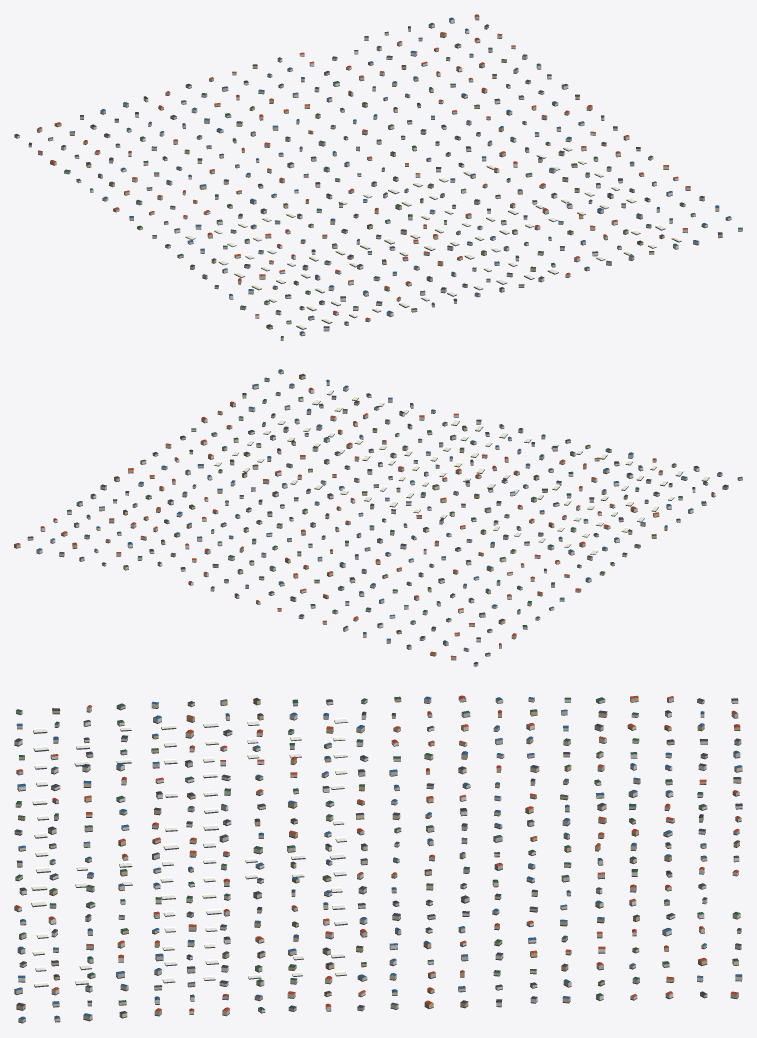
The model's file is buildings_T_W01_S01.glb.
3 views of the same model, one above another, from view 1: azimuth 30°, elevation 25°; view 2: azimuth 150°, elevation 25°; view 3: azimuth 270°, elevation 25° (orthographic). The views are drawn at different scales.
Visible parts, largest first — view 1: T_W01_S01_slope_seating_foundations, T_W01_S01_roofs_agri_greenhouse_arch, T_W01_S01_walls_wall_pastel_sand_gray, T_W01_S01_walls_wall_modern_warm_white, T_W01_S01_walls_wall_dalat_cream_stucco, T_W01_S01_walls_wall_french_ochre_villa, T_W01_S01_roofs_roof_slate_French_villa_hip, T_W01_S01_roofs_roof_highland_blue_gable, T_W01_S01_roofs_roof_terracotta_gable, T_W01_S01_roofs_roof_pine_green_hip; view 2: T_W01_S01_slope_seating_foundations, T_W01_S01_roofs_agri_greenhouse_arch, T_W01_S01_walls_wall_modern_warm_white, T_W01_S01_walls_wall_pastel_sand_gray, T_W01_S01_walls_wall_dalat_cream_stucco, T_W01_S01_walls_wall_french_ochre_villa, T_W01_S01_roofs_roof_slate_French_villa_hip, T_W01_S01_roofs_roof_highland_blue_gable, T_W01_S01_roofs_roof_terracotta_gable, T_W01_S01_roofs_roof_pine_green_hip; view 3: T_W01_S01_slope_seating_foundations, T_W01_S01_roofs_agri_greenhouse_arch, T_W01_S01_walls_wall_pastel_sand_gray, T_W01_S01_walls_wall_modern_warm_white, T_W01_S01_walls_wall_dalat_cream_stucco, T_W01_S01_walls_wall_french_ochre_villa, T_W01_S01_roofs_roof_slate_French_villa_hip, T_W01_S01_roofs_roof_highland_blue_gable, T_W01_S01_roofs_roof_terracotta_gable, T_W01_S01_roofs_roof_pine_green_hip.
Part boxes in pixels (x1=…): T_W01_S01_slope_seating_foundations: x1=14, y1=19, x2=742, y2=340; T_W01_S01_roofs_agri_greenhouse_arch: x1=185, y1=145, x2=681, y2=328; T_W01_S01_walls_wall_pastel_sand_gray: x1=28, y1=15, x2=699, y2=339; T_W01_S01_walls_wall_modern_warm_white: x1=14, y1=19, x2=687, y2=330; T_W01_S01_walls_wall_dalat_cream_stucco: x1=48, y1=24, x2=742, y2=335; T_W01_S01_walls_wall_french_ochre_villa: x1=50, y1=33, x2=722, y2=328; T_W01_S01_roofs_roof_slate_French_villa_hip: x1=14, y1=24, x2=722, y2=327; T_W01_S01_roofs_roof_highland_blue_gable: x1=48, y1=17, x2=742, y2=333; T_W01_S01_roofs_roof_terracotta_gable: x1=37, y1=14, x2=690, y2=319; T_W01_S01_roofs_roof_pine_green_hip: x1=64, y1=23, x2=695, y2=337; T_W01_S01_slope_seating_foundations: x1=14, y1=372, x2=742, y2=666; T_W01_S01_roofs_agri_greenhouse_arch: x1=214, y1=388, x2=709, y2=554; T_W01_S01_walls_wall_modern_warm_white: x1=36, y1=387, x2=715, y2=666; T_W01_S01_walls_wall_pastel_sand_gray: x1=14, y1=382, x2=742, y2=659; T_W01_S01_walls_wall_dalat_cream_stucco: x1=59, y1=370, x2=722, y2=651; T_W01_S01_walls_wall_french_ochre_villa: x1=72, y1=375, x2=728, y2=655; T_W01_S01_roofs_roof_slate_French_villa_hip: x1=27, y1=373, x2=728, y2=664; T_W01_S01_roofs_roof_highland_blue_gable: x1=36, y1=369, x2=722, y2=649; T_W01_S01_roofs_roof_terracotta_gable: x1=14, y1=387, x2=714, y2=657; T_W01_S01_roofs_roof_pine_green_hip: x1=59, y1=392, x2=742, y2=630; T_W01_S01_slope_seating_foundations: x1=14, y1=699, x2=742, y2=1023; T_W01_S01_roofs_agri_greenhouse_arch: x1=31, y1=717, x2=348, y2=986; T_W01_S01_walls_wall_pastel_sand_gray: x1=14, y1=697, x2=741, y2=1015; T_W01_S01_walls_wall_modern_warm_white: x1=14, y1=698, x2=742, y2=1014; T_W01_S01_walls_wall_dalat_cream_stucco: x1=15, y1=699, x2=742, y2=1022; T_W01_S01_walls_wall_french_ochre_villa: x1=16, y1=697, x2=740, y2=1009; T_W01_S01_roofs_roof_slate_French_villa_hip: x1=14, y1=698, x2=742, y2=1014; T_W01_S01_roofs_roof_highland_blue_gable: x1=14, y1=696, x2=742, y2=1020; T_W01_S01_roofs_roof_terracotta_gable: x1=14, y1=695, x2=741, y2=1011; T_W01_S01_roofs_roof_pine_green_hip: x1=15, y1=696, x2=740, y2=1010.
Size of the model in its own units: 1797 by 111 by 1796.
